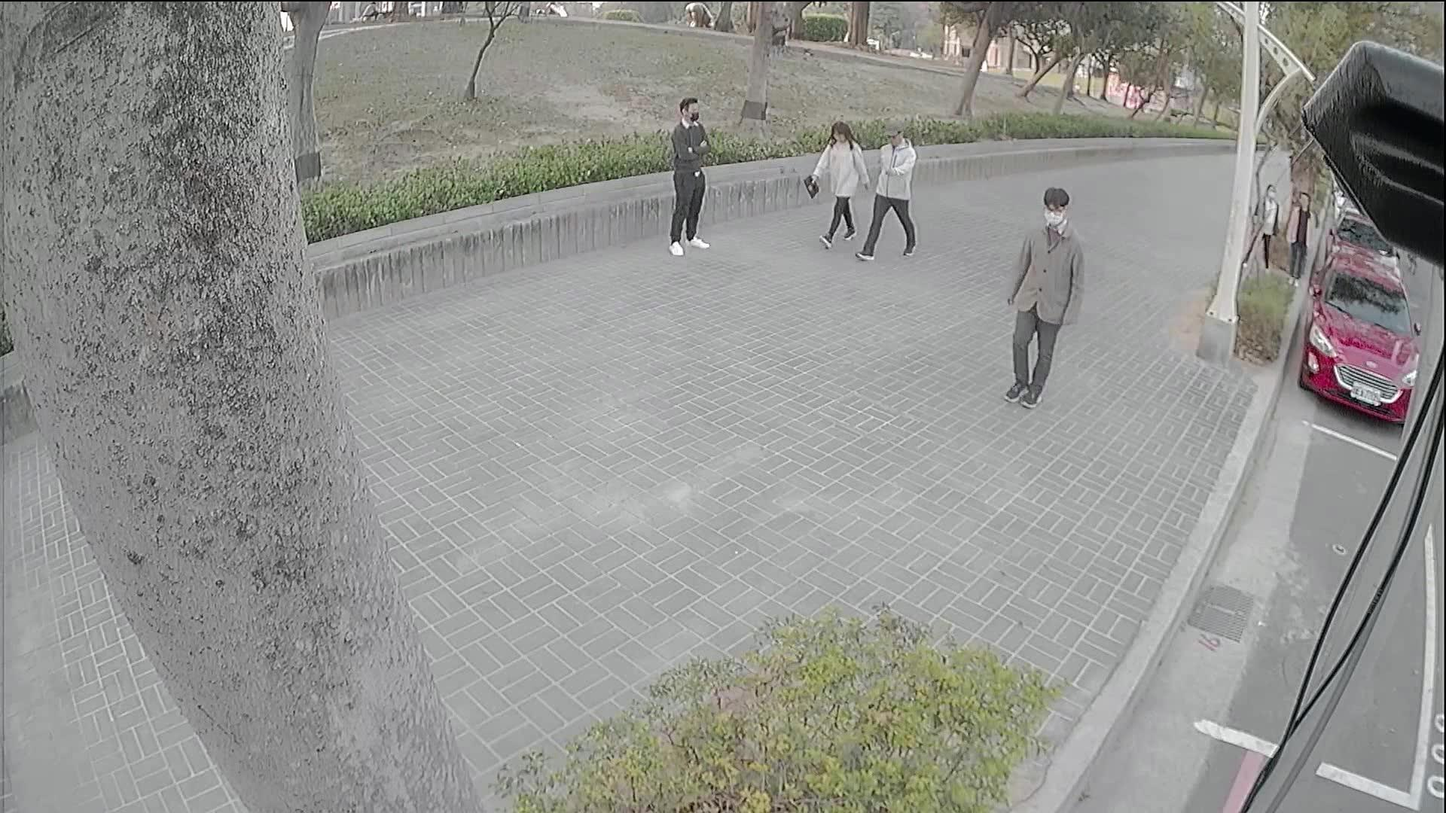person: (1001, 184, 1081, 403), (857, 121, 914, 257), (804, 120, 865, 239), (667, 97, 707, 257), (1286, 190, 1314, 285), (1261, 182, 1276, 262)
